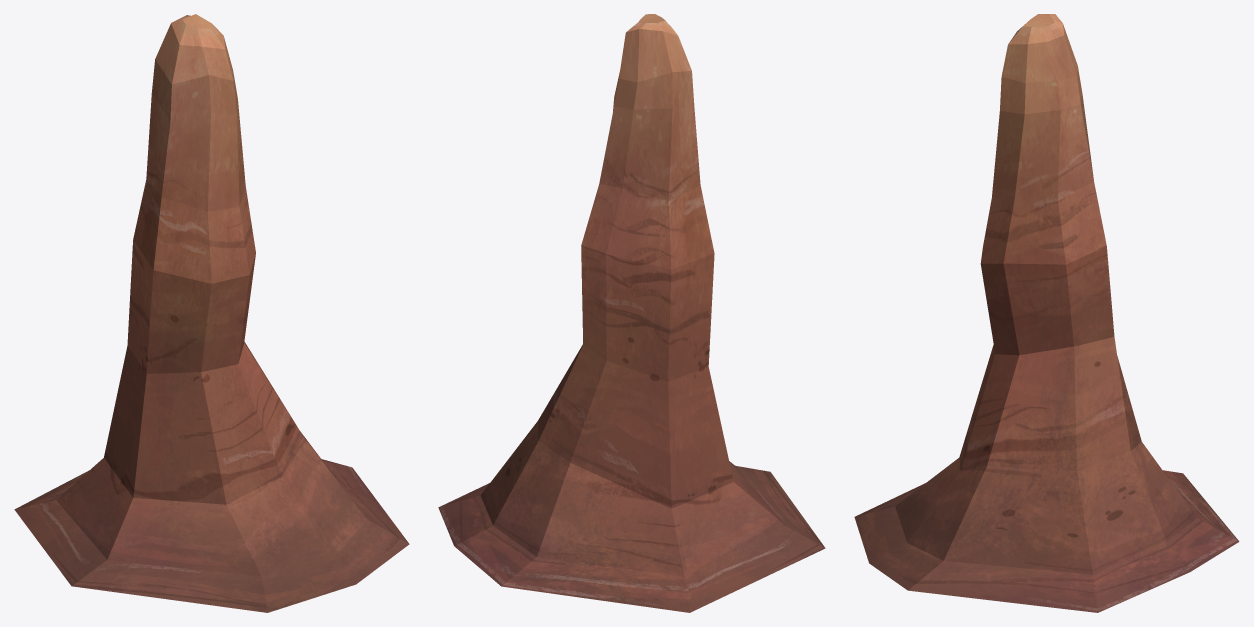
The model's file is spire_1_001.fbx.
3 renders of one model, left to right at view 1: azimuth 30°, elevation 25°; view 2: azimuth 150°, elevation 25°; view 3: azimuth 270°, elevation 25°, orthographic.
Parts seen in each view (by area): view 1: spire 1.001; view 2: spire 1.001; view 3: spire 1.001.
Boxes of the visible parts, x1,y1,x2,y2 form: spire 1.001: (14,14,409,612); spire 1.001: (438,14,825,612); spire 1.001: (854,14,1239,612).
Size of the model in its own units: 194 by 288 by 197.
